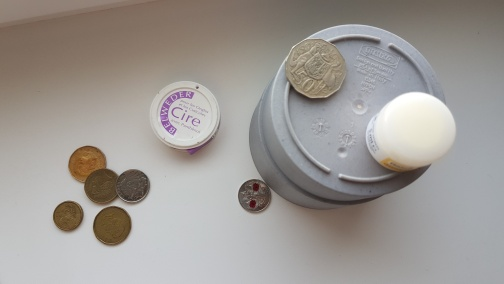coin: (284, 38, 349, 101), (93, 206, 132, 246), (68, 145, 108, 184), (237, 178, 273, 214), (84, 169, 119, 206), (115, 169, 151, 203), (52, 200, 84, 232)
